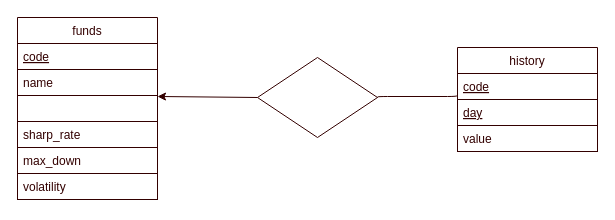
The diagram is 615 pixels wide and 220 high, and some of its shapes have lost their labels. Each missing label, with the centre of its shape:
"daily value" belongs at point 317,97.
"found_date" belongs at point 87,108.
